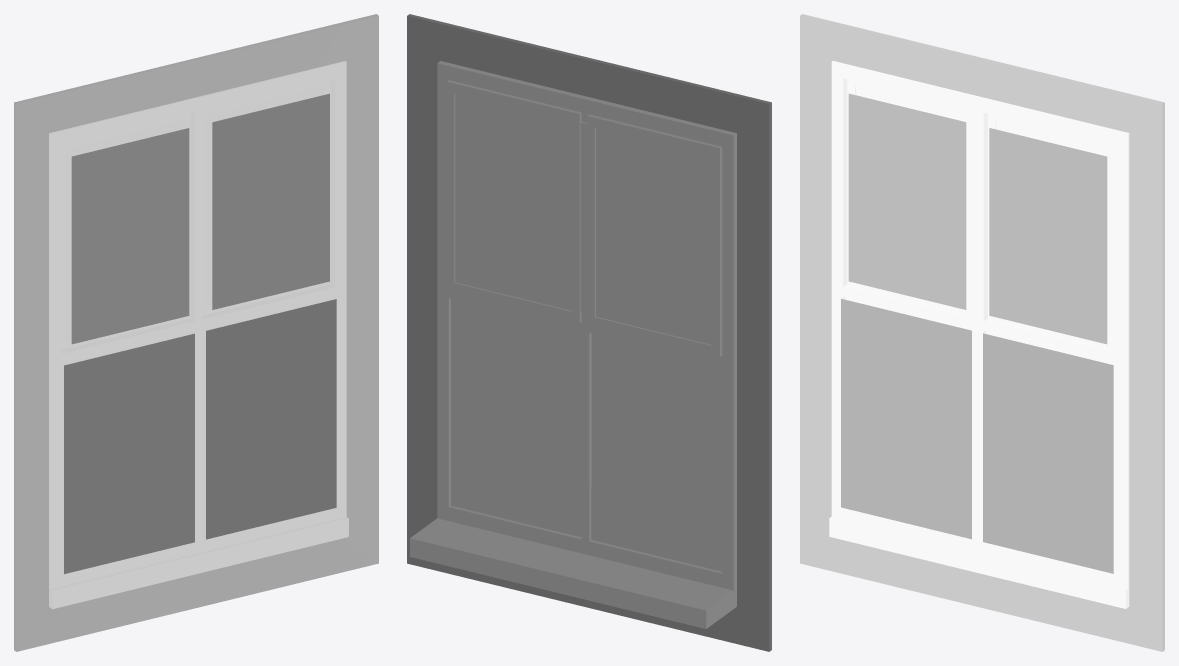
File: Window_d350e675.obj
3 views of the same model, side by side, from view 1: azimuth 30°, elevation 25°; view 2: azimuth 150°, elevation 25°; view 3: azimuth 330°, elevation 25° (orthographic).
Parts seen in each view (by area): view 1: WindowPane2_13084374, QuadDecalSpawnPlane_57689e03, QuadDecalSpawnPlane_(1)_f7c00dec, QuadDecalSpawnPlane_(2)_47e96f21, QuadDecalSpawnPlane_(3)_15ef72f2, WindowGlass2_f8e13c44; view 2: WindowPane2_13084374, WindowGlass2_f8e13c44; view 3: WindowPane2_13084374, QuadDecalSpawnPlane_(1)_f7c00dec, QuadDecalSpawnPlane_57689e03, QuadDecalSpawnPlane_(2)_47e96f21, QuadDecalSpawnPlane_(3)_15ef72f2, WindowGlass2_f8e13c44.
Part boxes in pixels (<box>): WindowPane2_13084374: <box>14,14,378,651</box>; QuadDecalSpawnPlane_57689e03: <box>64,333,194,574</box>; QuadDecalSpawnPlane_(1)_f7c00dec: <box>206,299,336,539</box>; QuadDecalSpawnPlane_(2)_47e96f21: <box>71,128,189,344</box>; QuadDecalSpawnPlane_(3)_15ef72f2: <box>212,93,329,309</box>; WindowGlass2_f8e13c44: <box>61,87,332,569</box>; WindowPane2_13084374: <box>407,14,771,651</box>; WindowGlass2_f8e13c44: <box>451,93,722,571</box>; WindowPane2_13084374: <box>800,14,1164,651</box>; QuadDecalSpawnPlane_(1)_f7c00dec: <box>983,333,1113,573</box>; QuadDecalSpawnPlane_57689e03: <box>841,298,971,539</box>; QuadDecalSpawnPlane_(2)_47e96f21: <box>848,93,966,309</box>; QuadDecalSpawnPlane_(3)_15ef72f2: <box>989,128,1107,344</box>; WindowGlass2_f8e13c44: <box>845,86,1116,569</box>.
Size of the model in its own units: 0.9536 by 1.38 by 0.1654.
